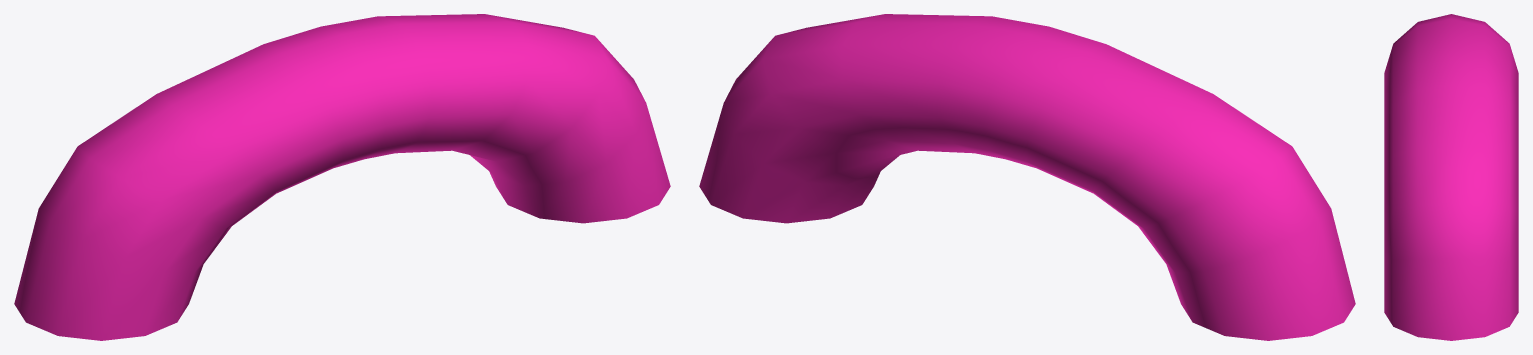
File: MD_Roots_004.FBX
The picture shows the model from 3 angles, left to right: view 1: azimuth 30°, elevation 25°; view 2: azimuth 150°, elevation 25°; view 3: azimuth 270°, elevation 25°; orthographic projection. The views are drawn at different scales.
Visible parts, largest first — view 1: Roots_004; view 2: Roots_004; view 3: Roots_004.
Part boxes in pixels (box(x1,y1,x2,y2)): Roots_004: box(14, 14, 670, 340); Roots_004: box(699, 14, 1355, 340); Roots_004: box(1384, 14, 1518, 340).
Bounding box in the file's own units: 1.67 × 0.5323 × 0.4.
